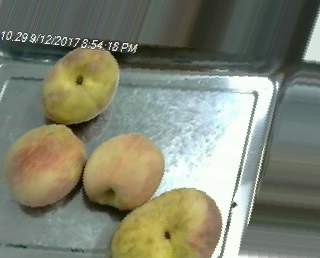Peach: (113, 187, 220, 256), (3, 123, 85, 206), (41, 45, 119, 123), (83, 135, 165, 209)
